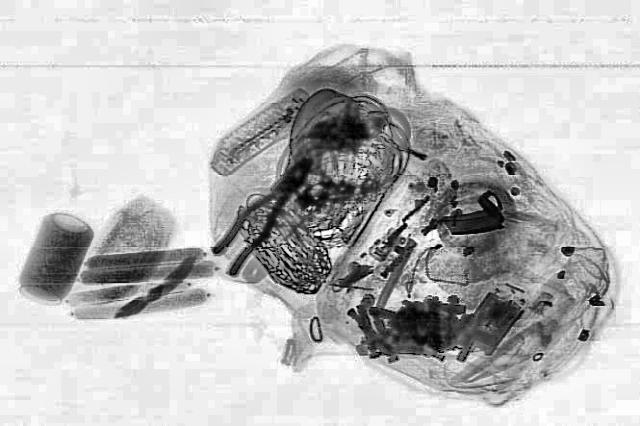Pliers: (194, 152, 328, 276)
